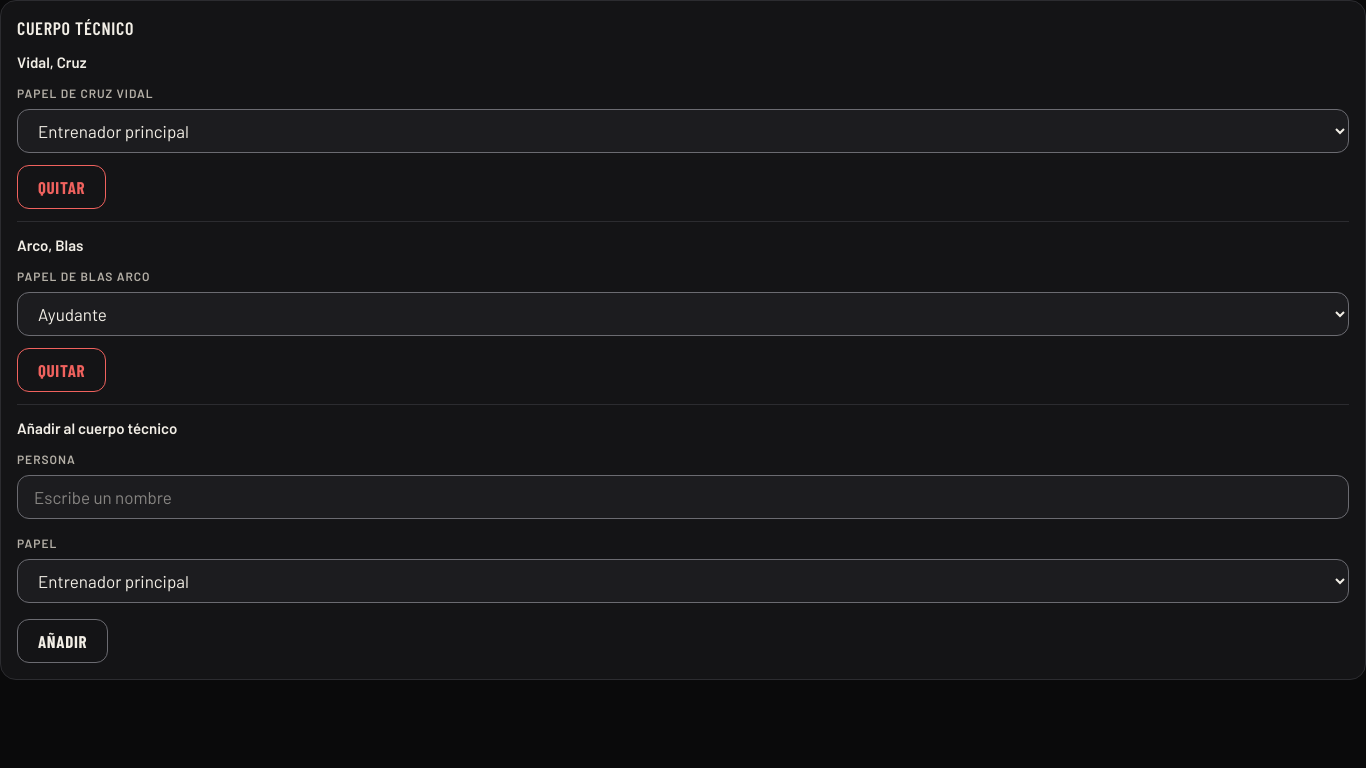
Test: StaffSection · quitar › al confirmar, quita a esa persona de ese equipo y cierra el diálogo
Click the button with aria-label "Quitar a Cruz Vidal del cuerpo técnico": (62, 187) [17, 165, 106, 209]
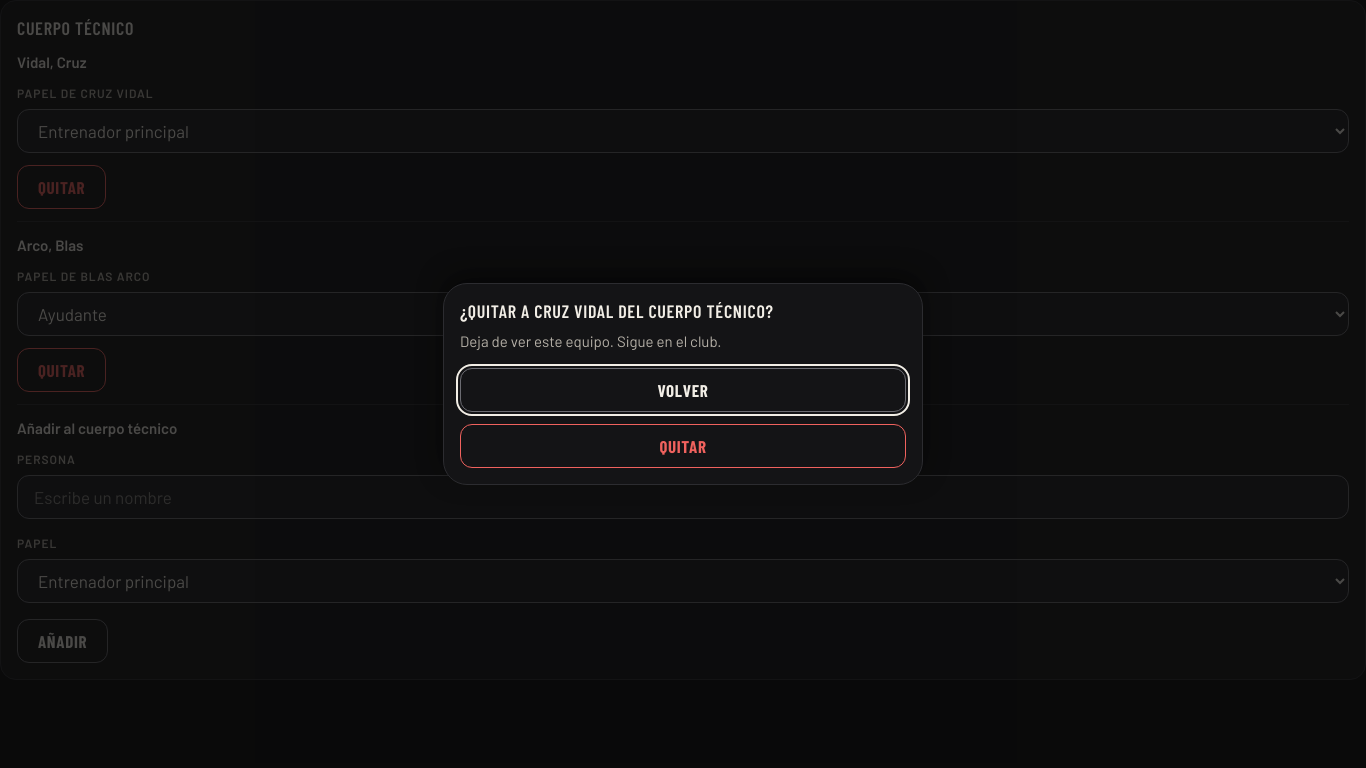
Click the button "Quitar": (683, 446) [460, 424, 906, 468]
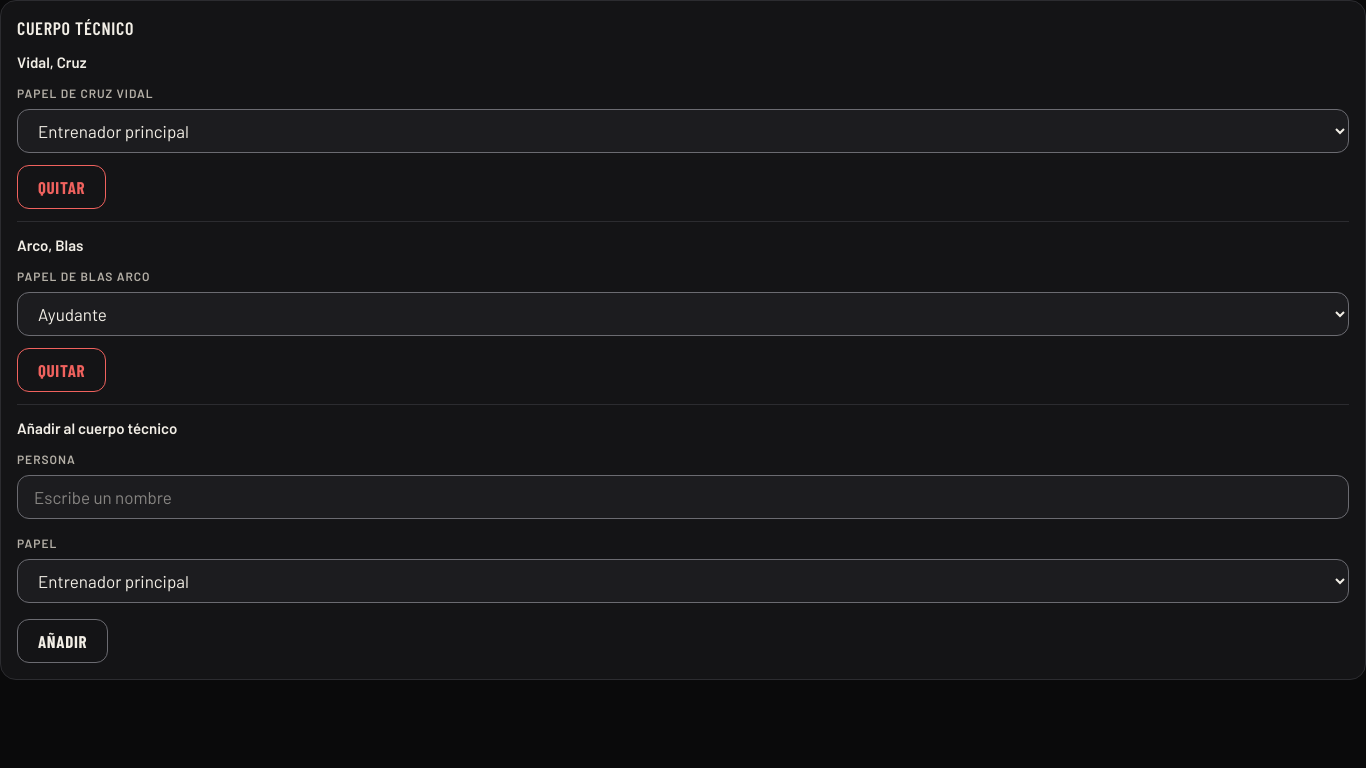
Result: the dialog is gone
